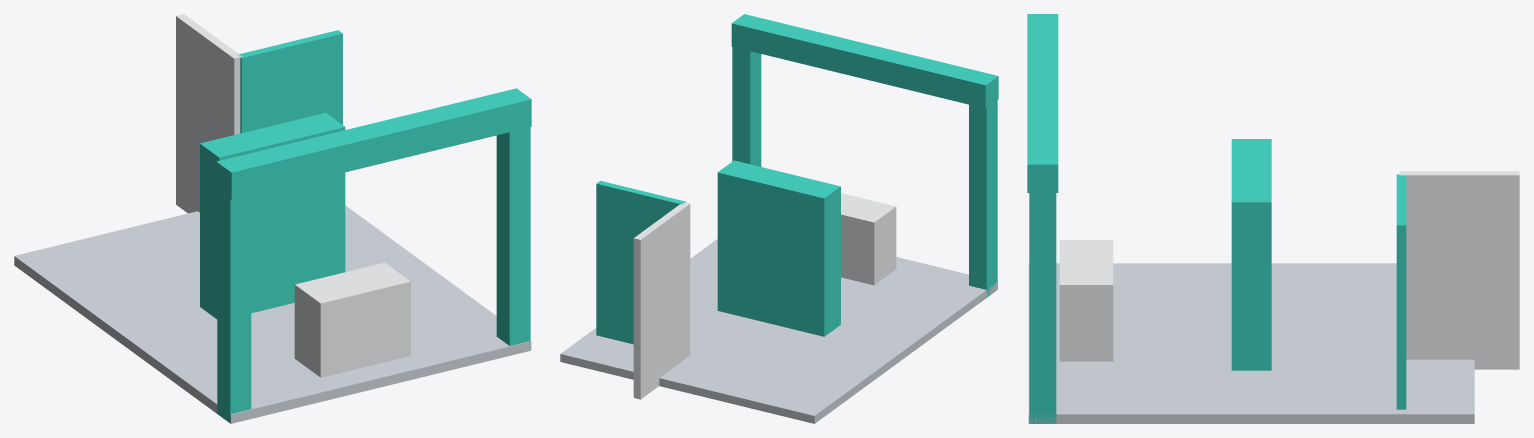
3 renders of one model, left to right at view 1: azimuth 30°, elevation 25°; view 2: azimuth 150°, elevation 25°; view 3: azimuth 270°, elevation 25°, orthographic. The views are drawn at different scales.
Parts seen in each view (by area): view 1: Exhibition Booth Concept; view 2: Exhibition Booth Concept; view 3: Exhibition Booth Concept.
Boxes of the visible parts, bbox=[...] form: Exhibition Booth Concept: bbox=[14, 14, 531, 423]; Exhibition Booth Concept: bbox=[560, 14, 998, 423]; Exhibition Booth Concept: bbox=[1027, 14, 1519, 423].
Bounding box in the file's own units: 4 × 3.2 × 5.52.
